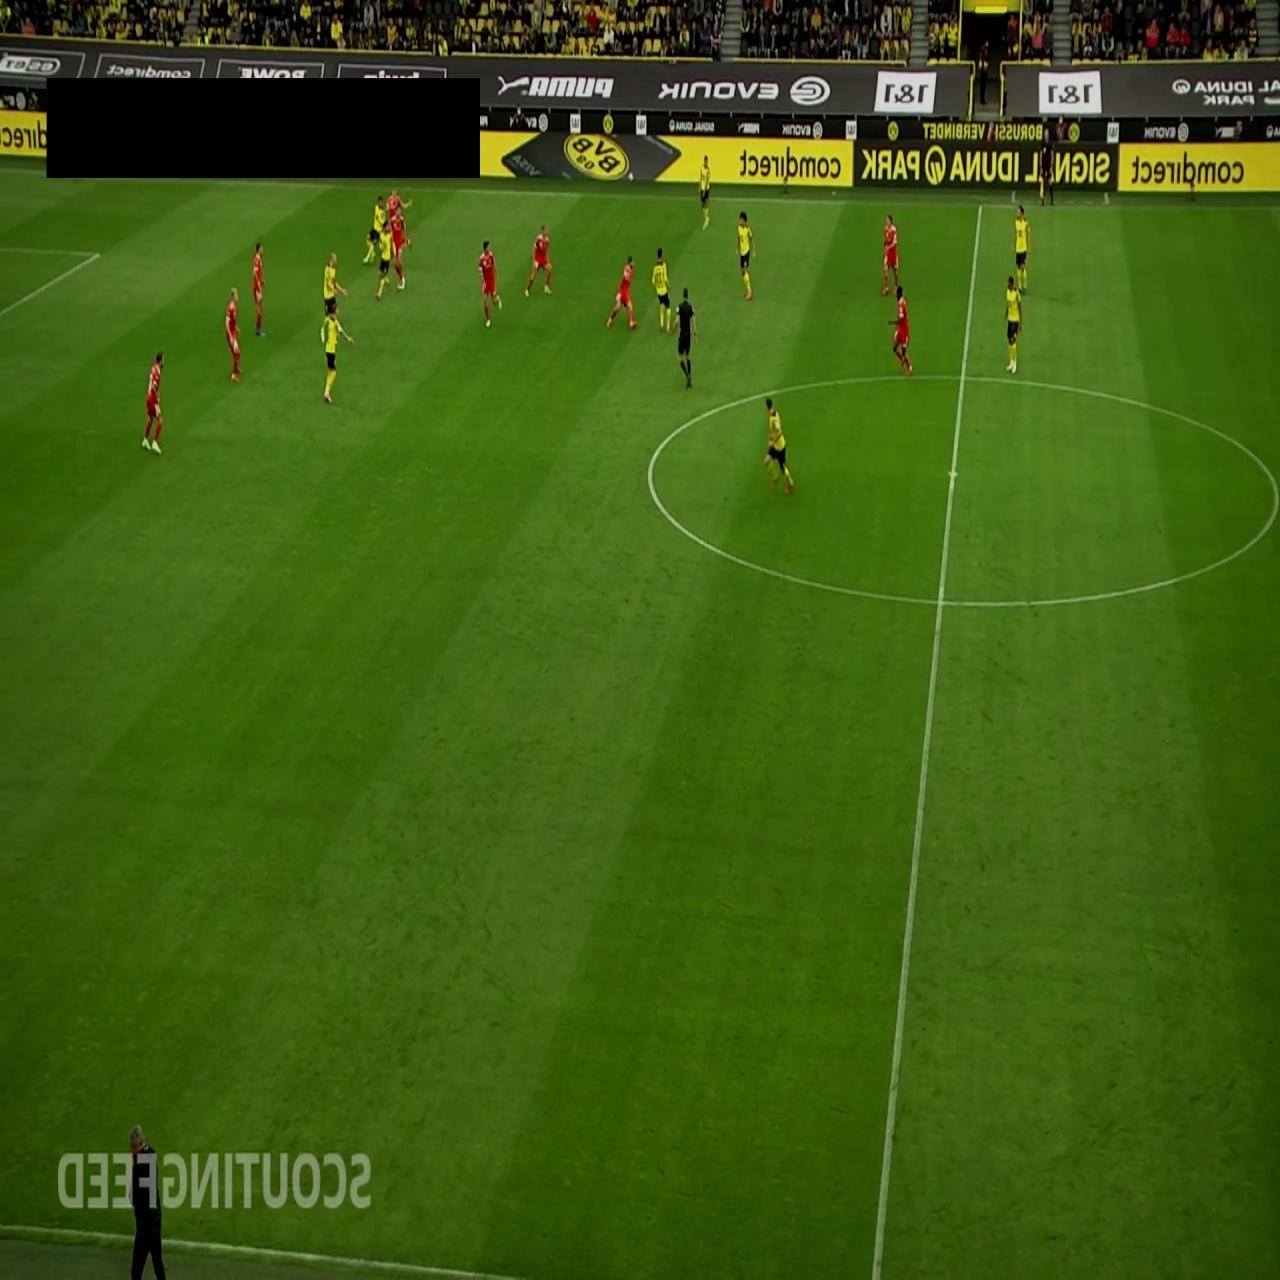player: (763, 397, 793, 494), (321, 300, 348, 404), (142, 352, 165, 454), (606, 256, 638, 329), (478, 238, 503, 330), (384, 185, 411, 266), (525, 223, 553, 296), (891, 286, 913, 374), (322, 251, 348, 321), (736, 211, 756, 301), (391, 207, 412, 290), (652, 247, 672, 334), (1005, 274, 1022, 374), (225, 288, 242, 383), (363, 196, 386, 264), (1014, 204, 1031, 294), (881, 212, 899, 296), (374, 220, 392, 301), (252, 242, 266, 336), (699, 153, 710, 230)
referee: (673, 287, 699, 389), (1036, 124, 1056, 210)
